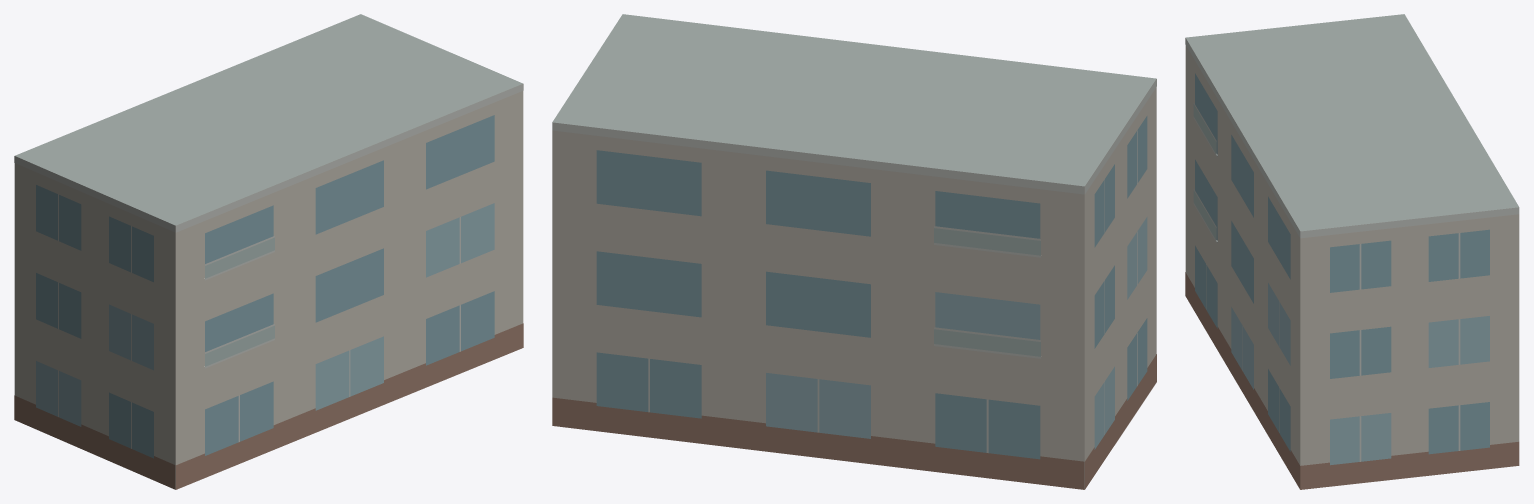
The model's file is survey-upis-32722799.glb.
The picture shows the model from 3 angles, left to right: view 1: azimuth 30°, elevation 25°; view 2: azimuth 150°, elevation 25°; view 3: azimuth 270°, elevation 25°; orthographic projection. The views are drawn at different scales.
Visible parts, largest first — view 1: survey-upis-32722799.tmp; view 2: survey-upis-32722799.tmp; view 3: survey-upis-32722799.tmp.
Part boxes in pixels (x1,y1,x2,y2): survey-upis-32722799.tmp: (14, 14, 523, 489); survey-upis-32722799.tmp: (552, 14, 1156, 489); survey-upis-32722799.tmp: (1185, 14, 1519, 489).
Size of the model in its own units: 16.52 by 9.15 by 10.73.
